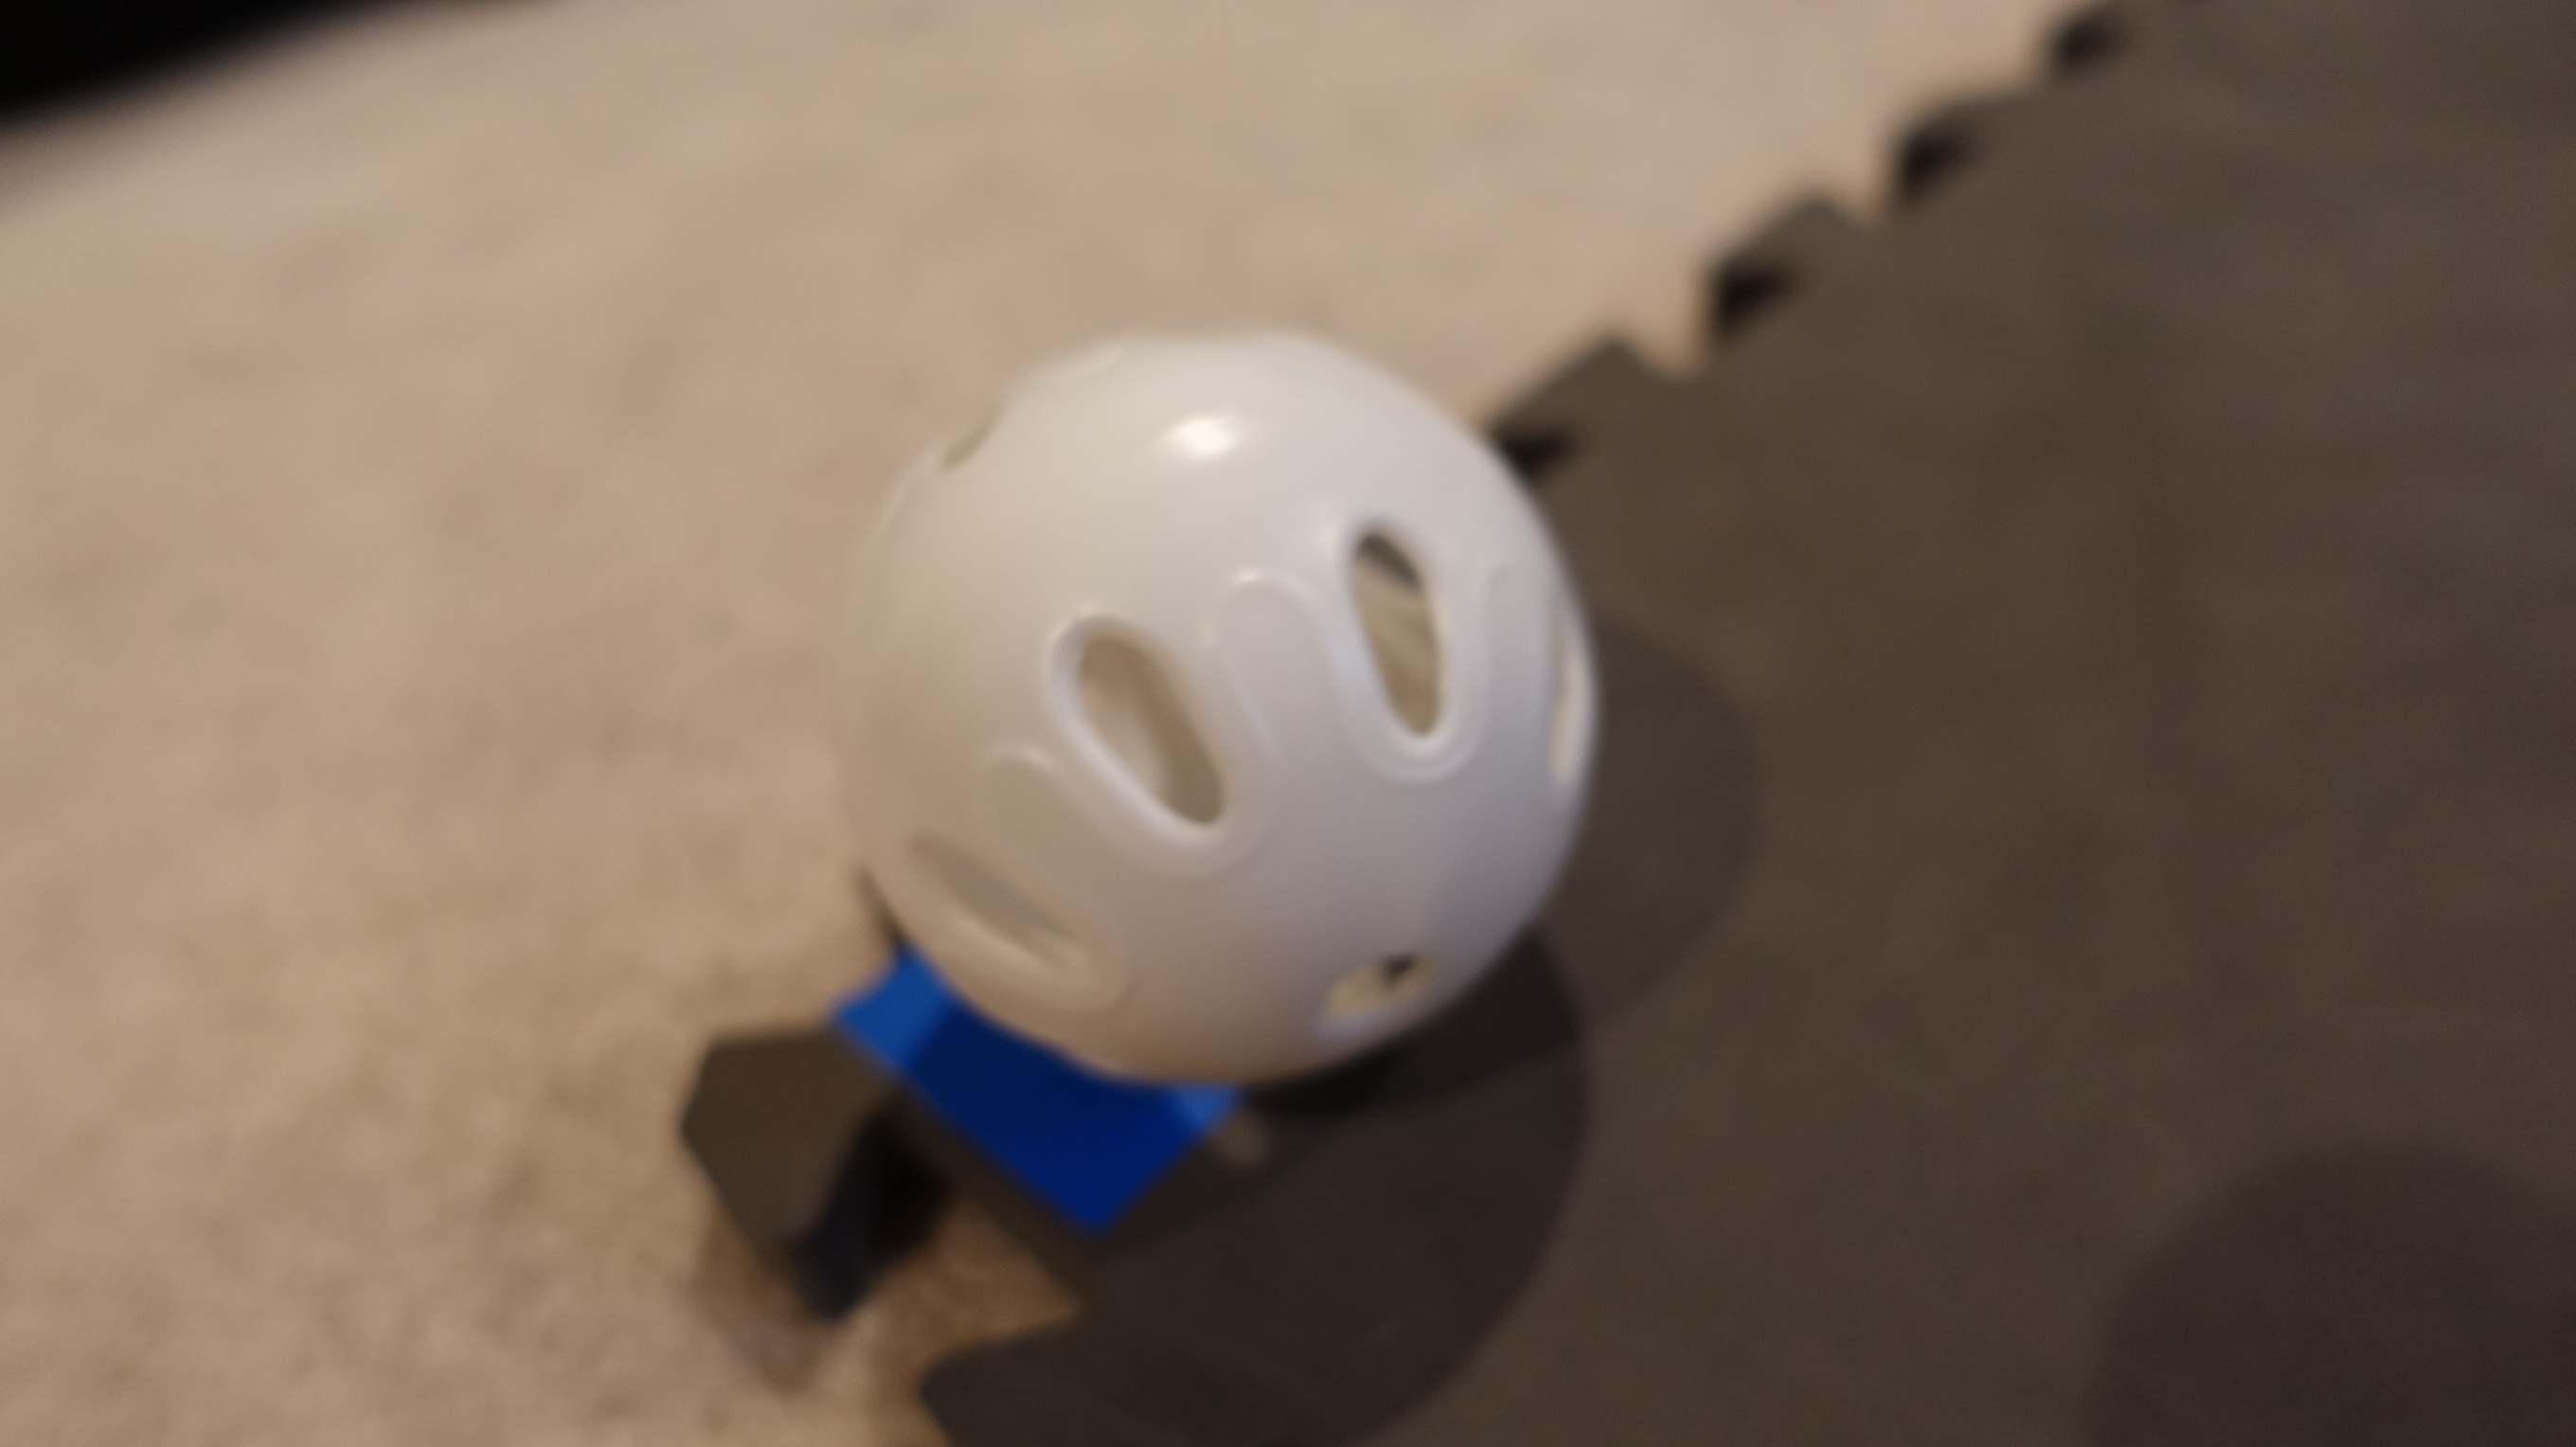silver: (814, 320, 1603, 1086)
